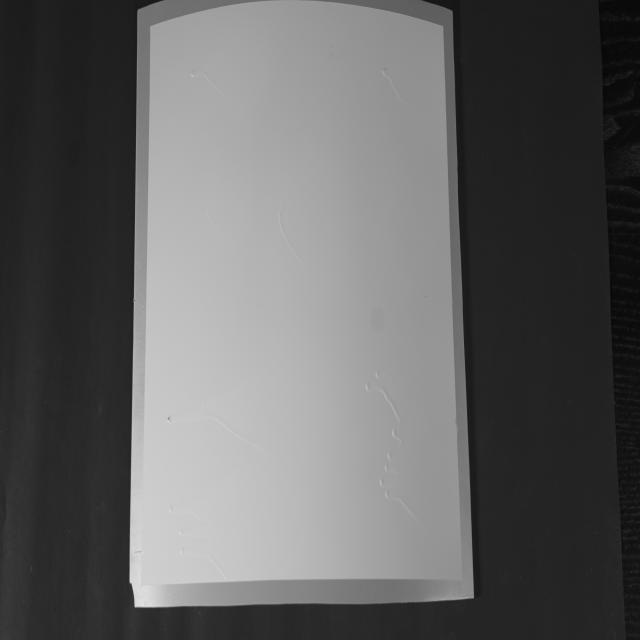paint drips: (162, 400, 290, 577), (365, 358, 438, 538), (272, 194, 318, 272), (190, 55, 234, 102), (382, 56, 414, 113), (204, 206, 217, 225)
